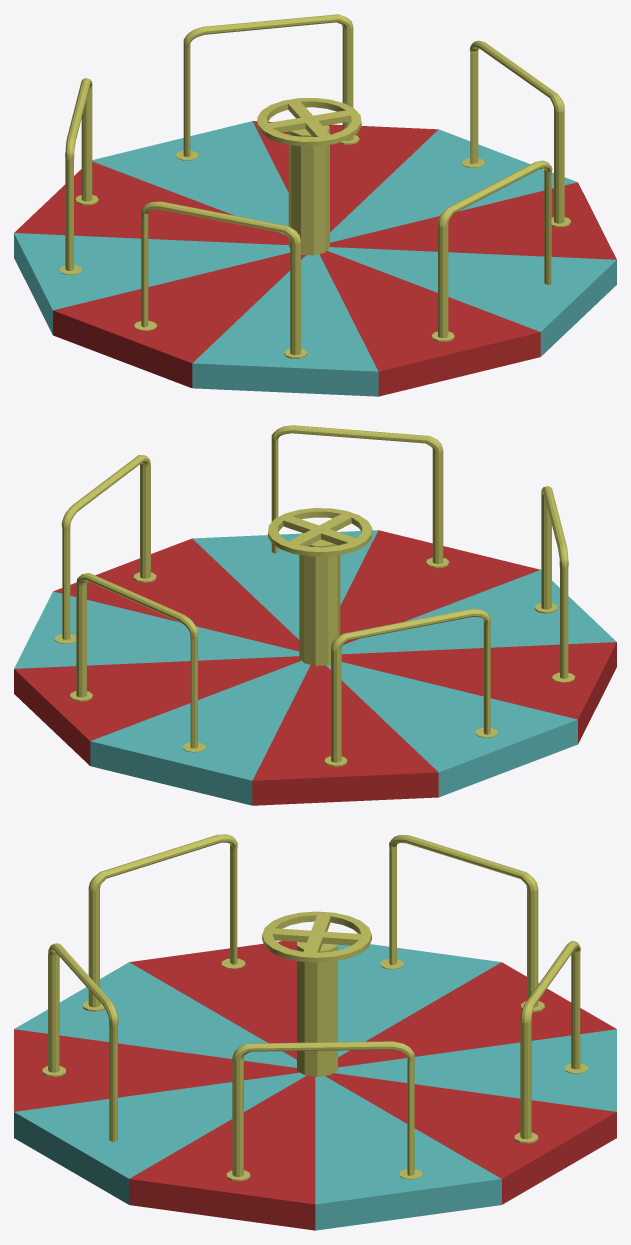
File: MerryGoRound2.fbx
3 renders of one model, top to bottom at view 1: azimuth 30°, elevation 25°; view 2: azimuth 150°, elevation 25°; view 3: azimuth 270°, elevation 25°, orthographic. The views are drawn at different scales.
Visible parts, largest first — view 1: pCylinder146; view 2: pCylinder146; view 3: pCylinder146.
Boxes of the visible parts, bbox=[...] form: pCylinder146: bbox=[14, 14, 616, 396]; pCylinder146: bbox=[14, 425, 616, 805]; pCylinder146: bbox=[14, 834, 616, 1230].
Bounding box in the file's own units: 4.16 × 1.16 × 3.96.
